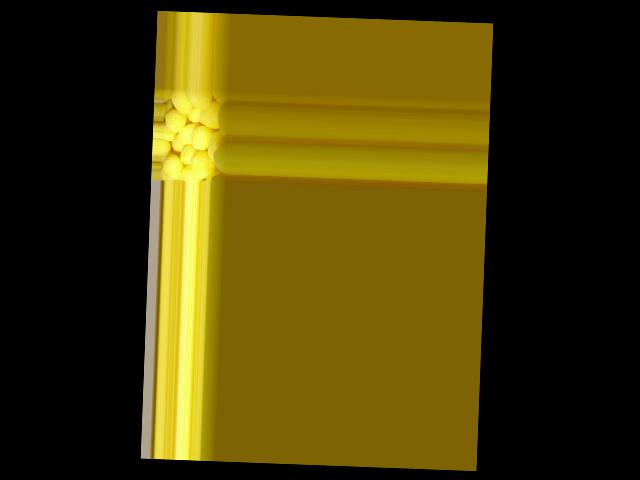lemon: (163, 102, 186, 135)
